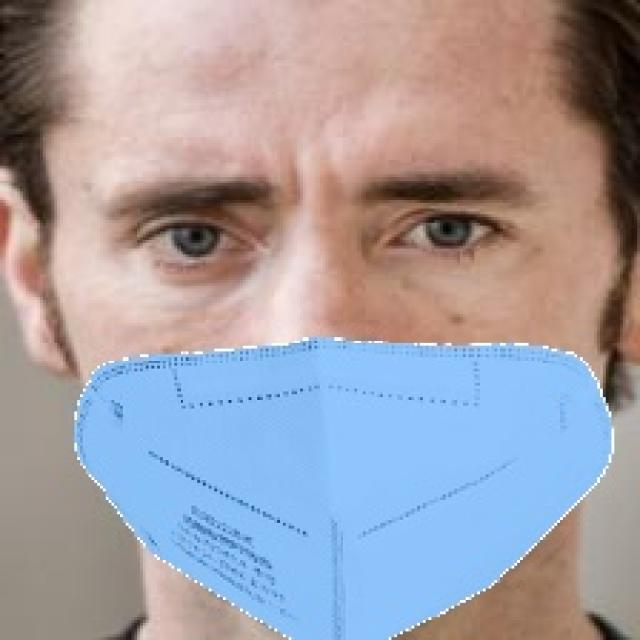mask: (51, 325, 621, 640)
